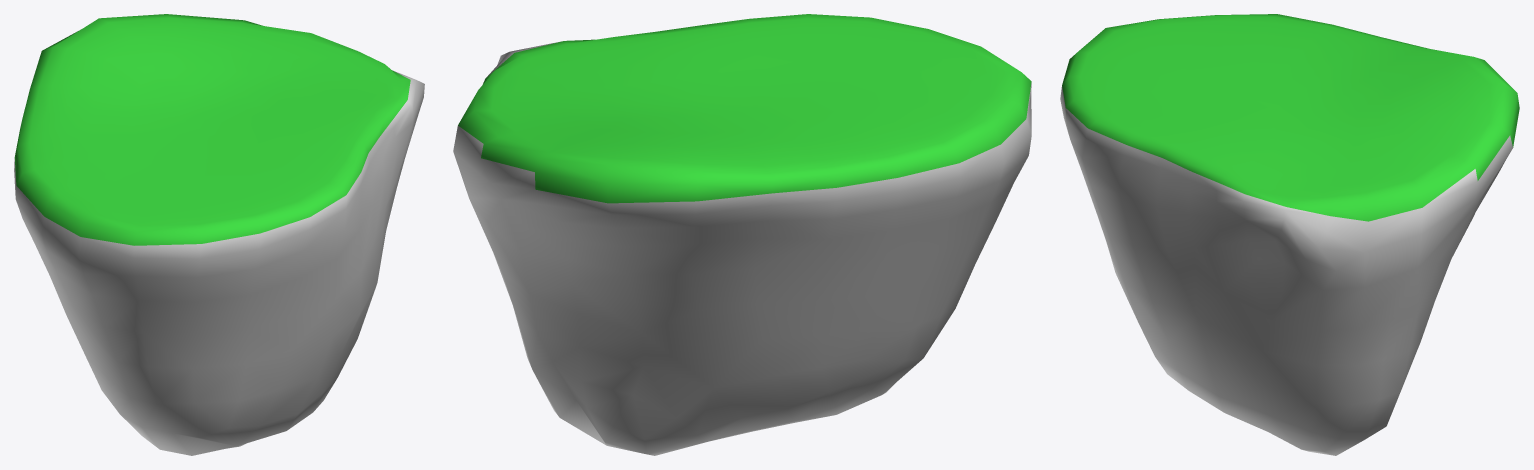
File: platform_r_6_02.fbx
The picture shows the model from 3 angles, left to right: view 1: azimuth 30°, elevation 25°; view 2: azimuth 150°, elevation 25°; view 3: azimuth 270°, elevation 25°; orthographic projection. The views are drawn at different scales.
Parts seen in each view (by area): view 1: platform_l_02.004; view 2: platform_l_02.004; view 3: platform_l_02.004.
Boxes of the visible parts, x1,y1,x2,y2 form: platform_l_02.004: (14,14,424,455); platform_l_02.004: (453,14,1031,455); platform_l_02.004: (1060,14,1519,455).
Bounding box in the file's own units: 9.31 × 7.1 × 9.05.
